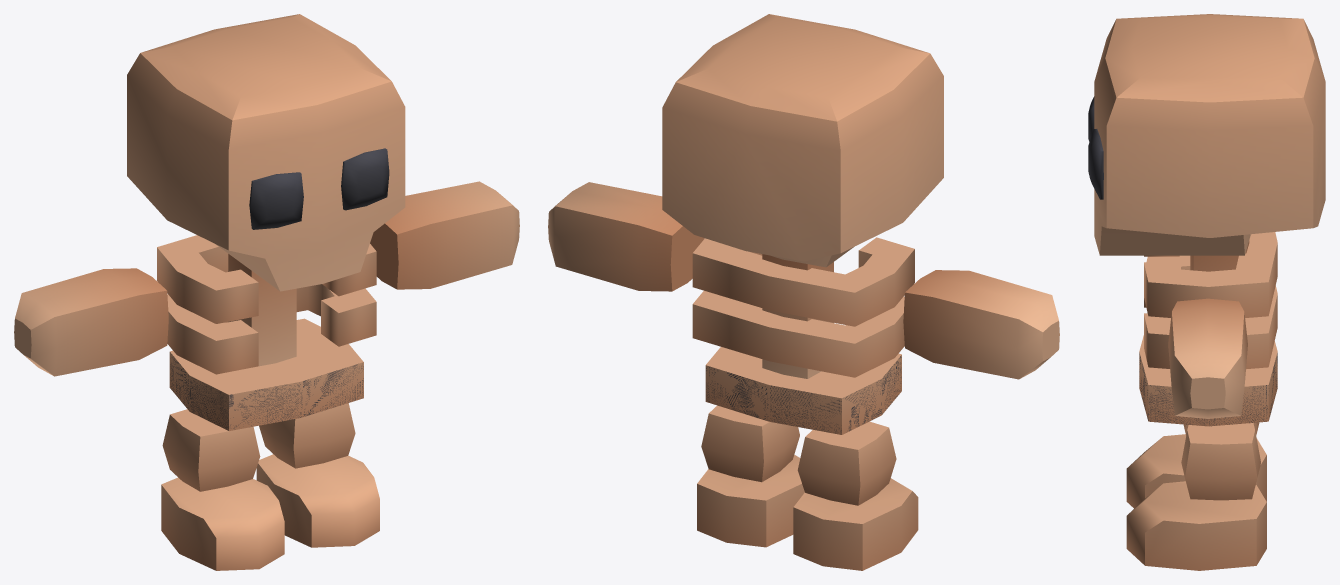
Rendered from cc0-skeleton-lod0.glb.
The picture shows the model from 3 angles, left to right: view 1: azimuth 30°, elevation 25°; view 2: azimuth 150°, elevation 25°; view 3: azimuth 270°, elevation 25°; orthographic projection.
Visible parts, largest first — view 1: part_3, part_2, part_6, part_4, part_1, part_5; view 2: part_3, part_2, part_6, part_4, part_5, part_1; view 3: part_3, part_1, part_2, part_5, part_6.
Boxes of the visible parts, x1,y1,x2,y2 form: part_3: (127,14,405,291); part_2: (157,235,376,430); part_6: (161,409,284,570); part_4: (14,268,168,376); part_1: (256,403,379,547); part_5: (370,181,519,289); part_3: (662,14,943,267); part_2: (692,237,914,434); part_6: (793,421,918,570); part_4: (903,270,1059,379); part_5: (548,182,704,291); part_1: (697,405,804,547); part_3: (1088,14,1325,255); part_1: (1126,423,1266,570); part_2: (1139,232,1277,426); part_5: (1168,298,1247,418); part_6: (1126,422,1266,508).
Size of the model in its own units: 0.7608 by 0.7001 by 0.3159.
1 material, 1 textured.
